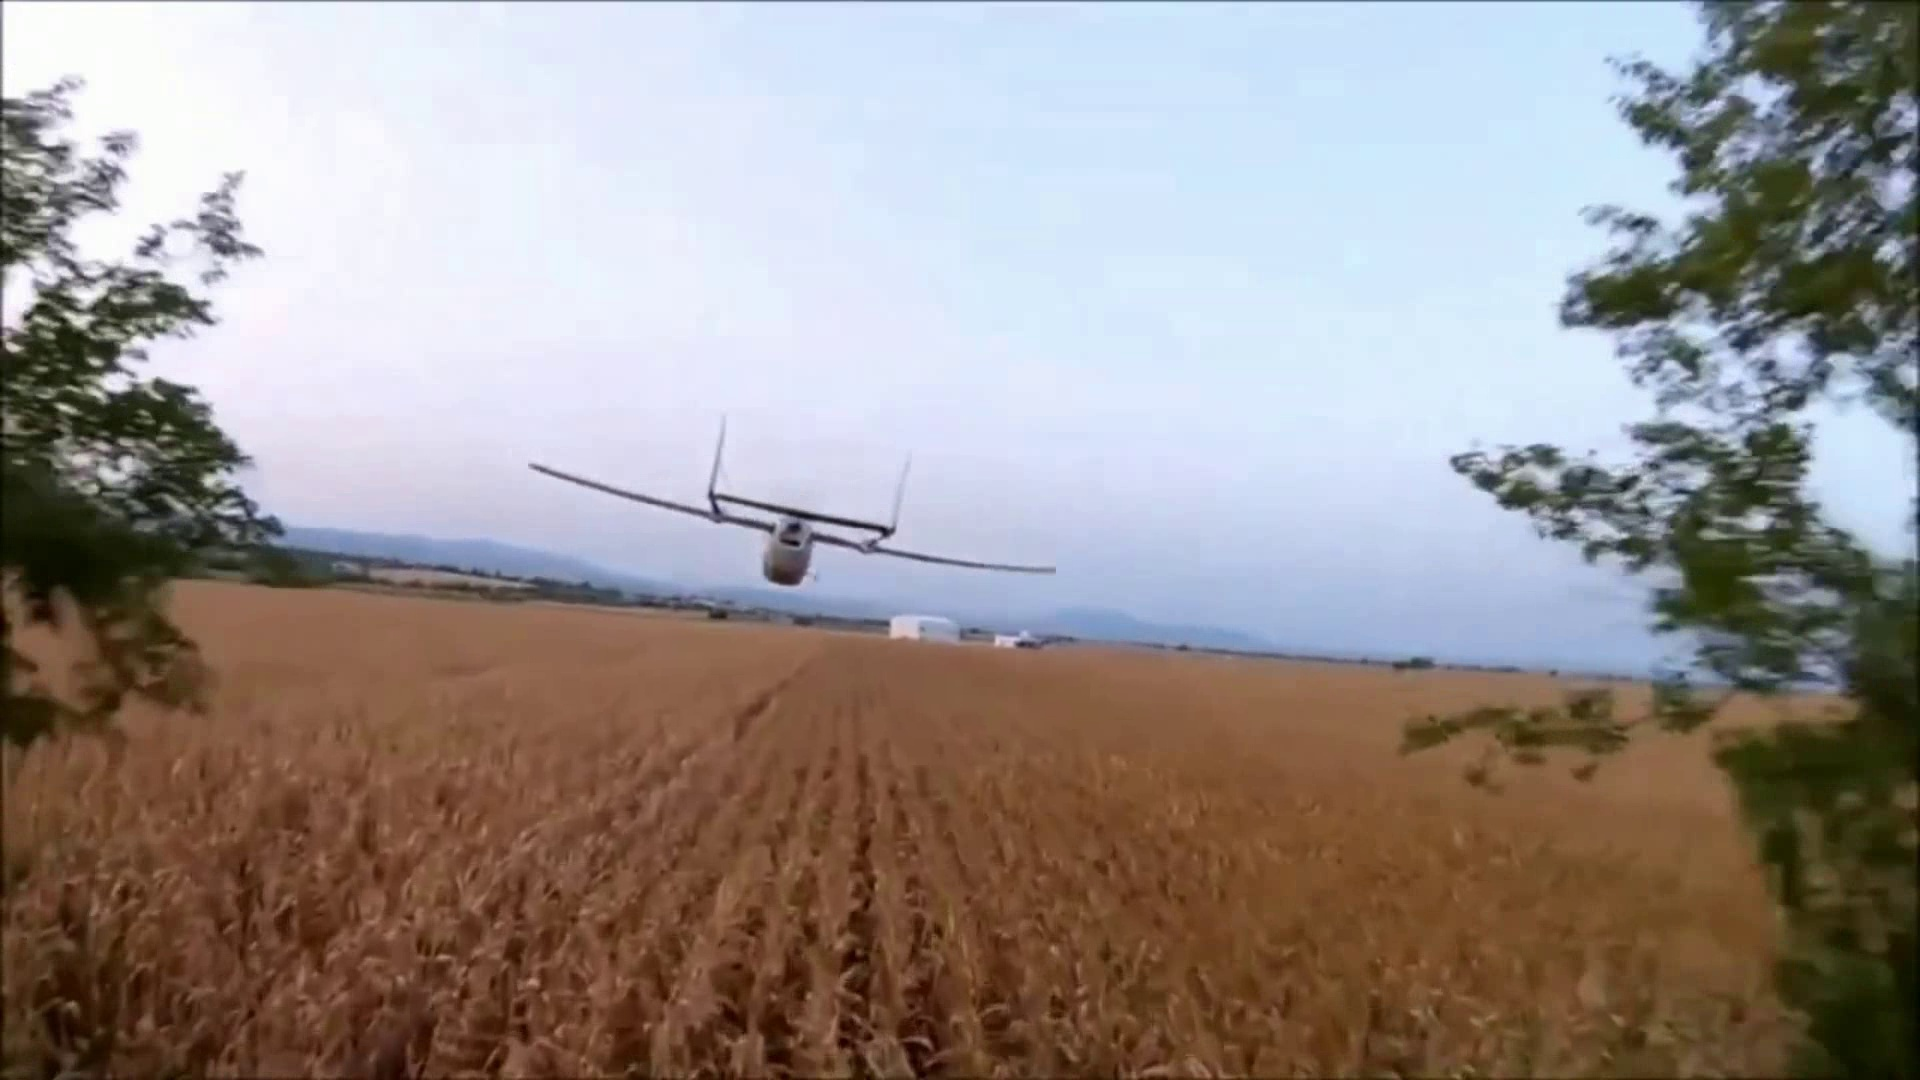airplane: (233, 415, 1060, 615), (530, 415, 1058, 589)
